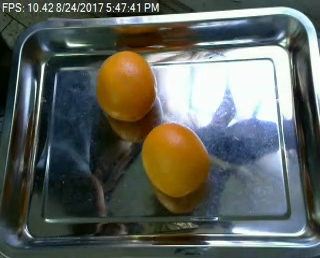Orange: (142, 122, 210, 199), (93, 48, 154, 122)
